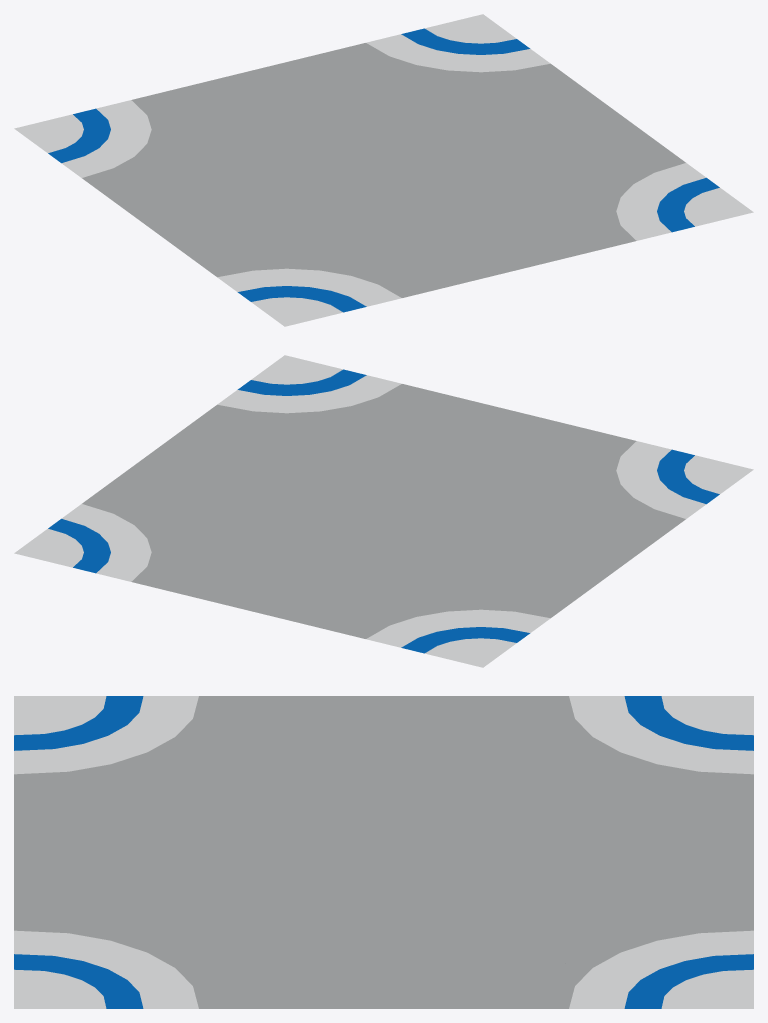
Rendered from Ceiling_type_A_044.fbx.
3 renders of one model, top to bottom at view 1: azimuth 30°, elevation 25°; view 2: azimuth 150°, elevation 25°; view 3: azimuth 270°, elevation 25°, orthographic. The views are drawn at different scales.
Visible parts, largest first — view 1: Ceiling_type_A_044; view 2: Ceiling_type_A_044; view 3: Ceiling_type_A_044.
Part boxes in pixels (left/top/right/bottom): Ceiling_type_A_044: left=14, top=14, right=753, bottom=326; Ceiling_type_A_044: left=14, top=355, right=753, bottom=667; Ceiling_type_A_044: left=14, top=696, right=753, bottom=1008.
Bounding box in the file's own units: 400 × 400 × 1.2.
